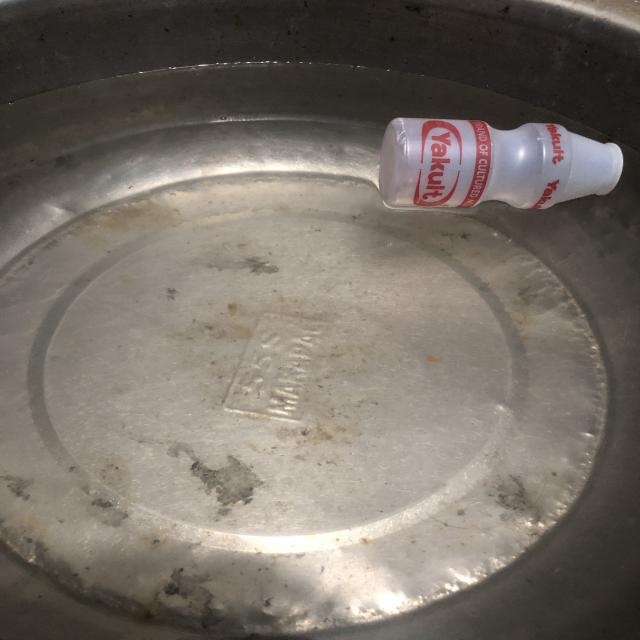Plastic Bottle: (379, 118, 623, 209)
